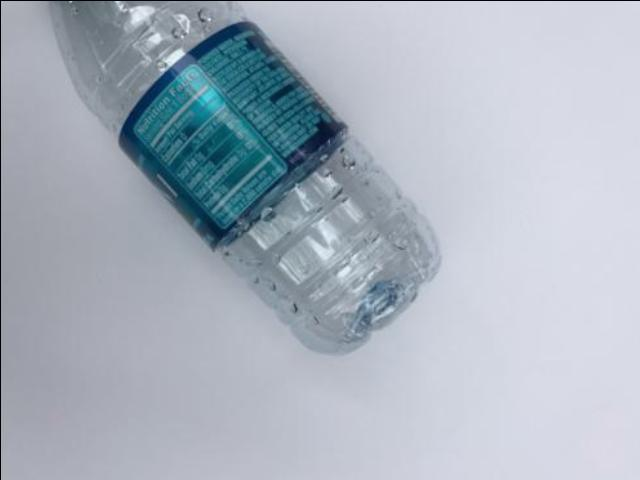plastic: (52, 0, 440, 355)
